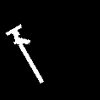double_crochet: (6, 24, 42, 82)
